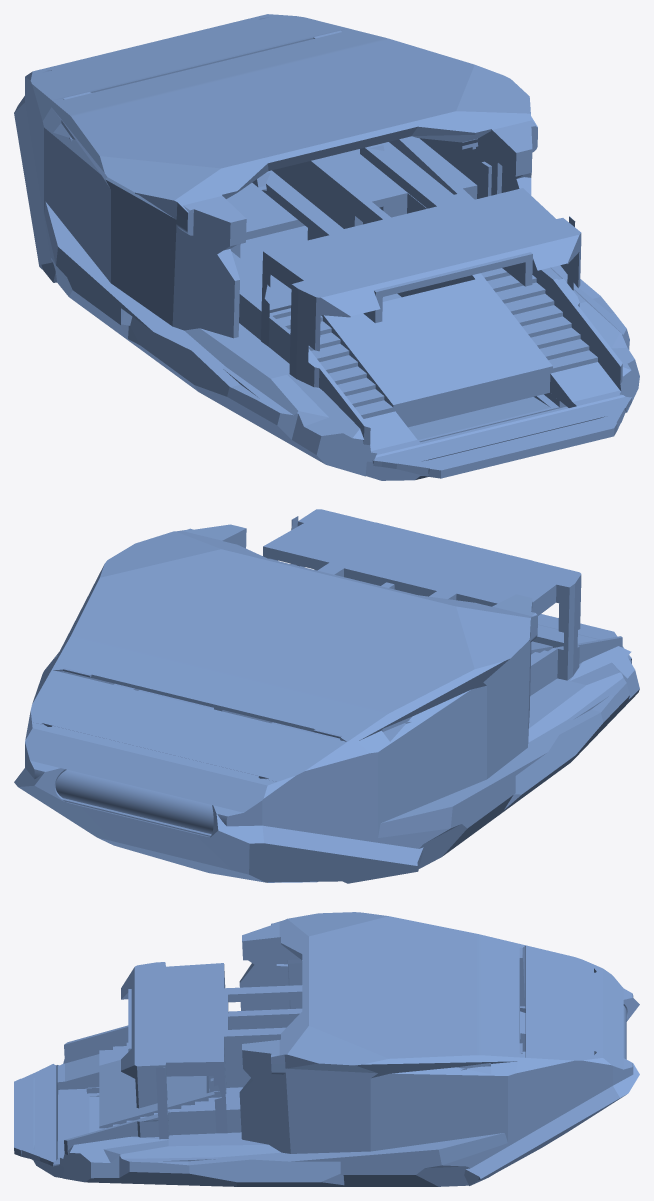
File: leiei.gltf
3 renders of one model, top to bottom at view 1: azimuth 30°, elevation 25°; view 2: azimuth 150°, elevation 25°; view 3: azimuth 270°, elevation 25°, orthographic. The views are drawn at different scales.
Parts seen in each view (by area): view 1: Part 17; view 2: Part 17; view 3: Part 17.
Part boxes in pixels (x1,y1,x2,y2): Part 17: (14,14,639,480); Part 17: (14,509,639,883); Part 17: (14,912,639,1186).
Bounding box in the file's own units: 0.1268 × 0.0665 × 0.2187.
